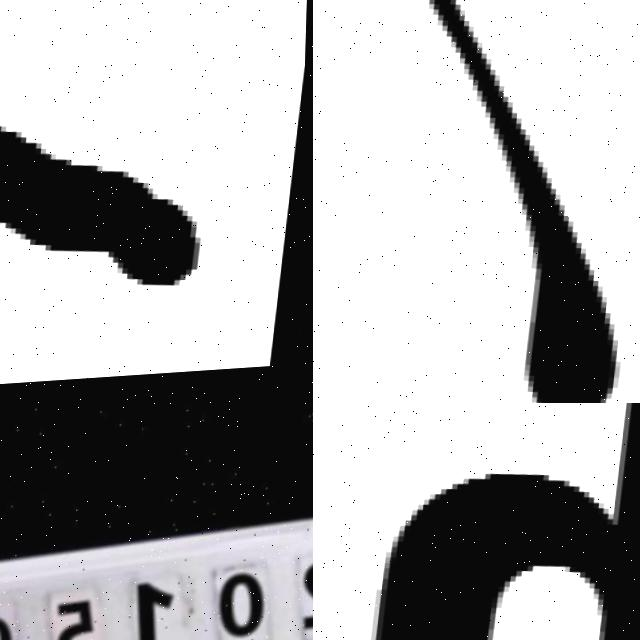0: (208, 551, 285, 640), (0, 594, 30, 640)
1: (125, 564, 199, 640)
2: (0, 0, 254, 335), (289, 542, 313, 640)
5: (46, 580, 118, 640)
7: (318, 0, 640, 403)
H: (377, 403, 640, 640)
